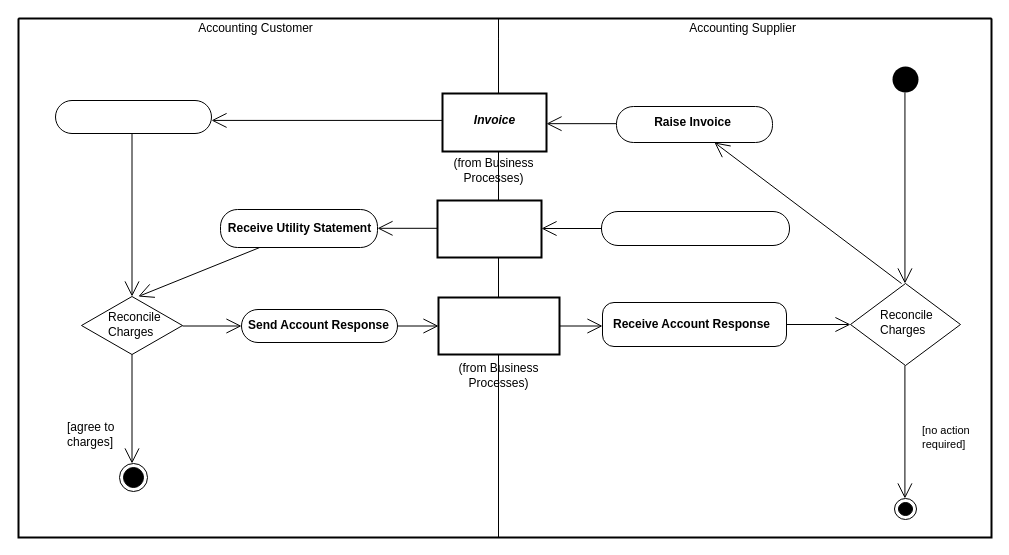
The diagram is 1009 pixels wide and 555 high, and some of its shapes have lost their labels. The box of each missing label's shape, as (x1, y1, x2, y2) in pixels:
Invoice Status Response: (437, 296, 560, 355)
Receive Invoice: (54, 100, 212, 134)
Report usage: (600, 210, 790, 246)
Utility Statement: (436, 199, 542, 258)
